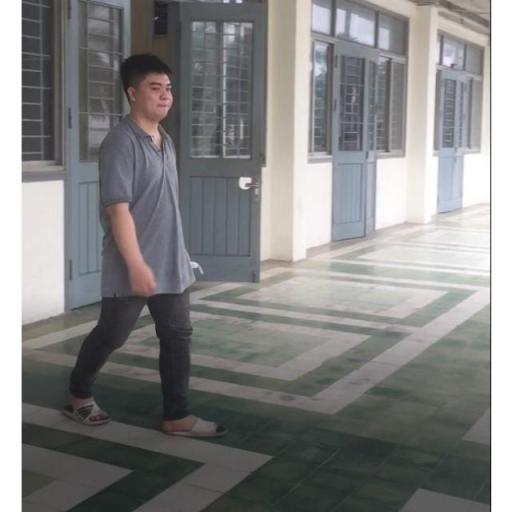Running: (58, 42, 238, 450)
